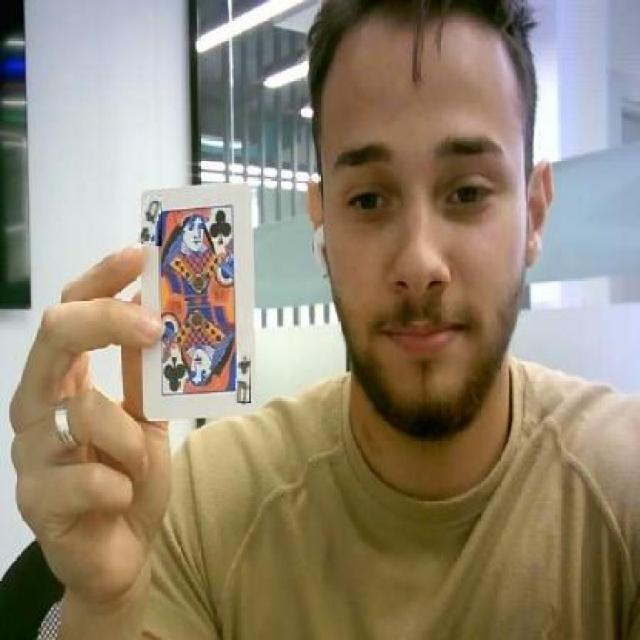QC: (140, 196, 162, 247), (235, 351, 251, 404)
